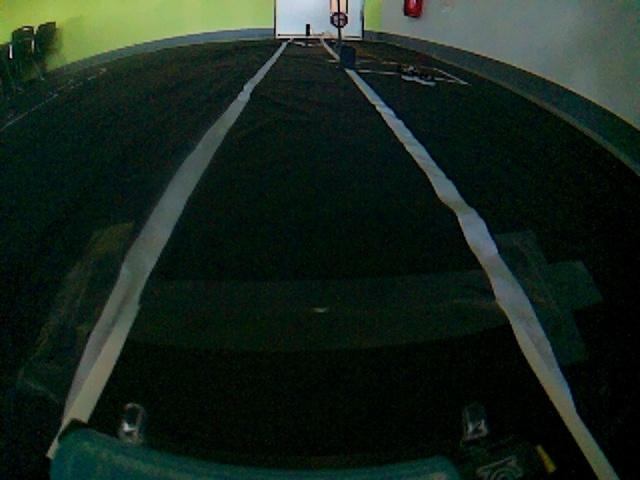go: (49, 53, 608, 480)
